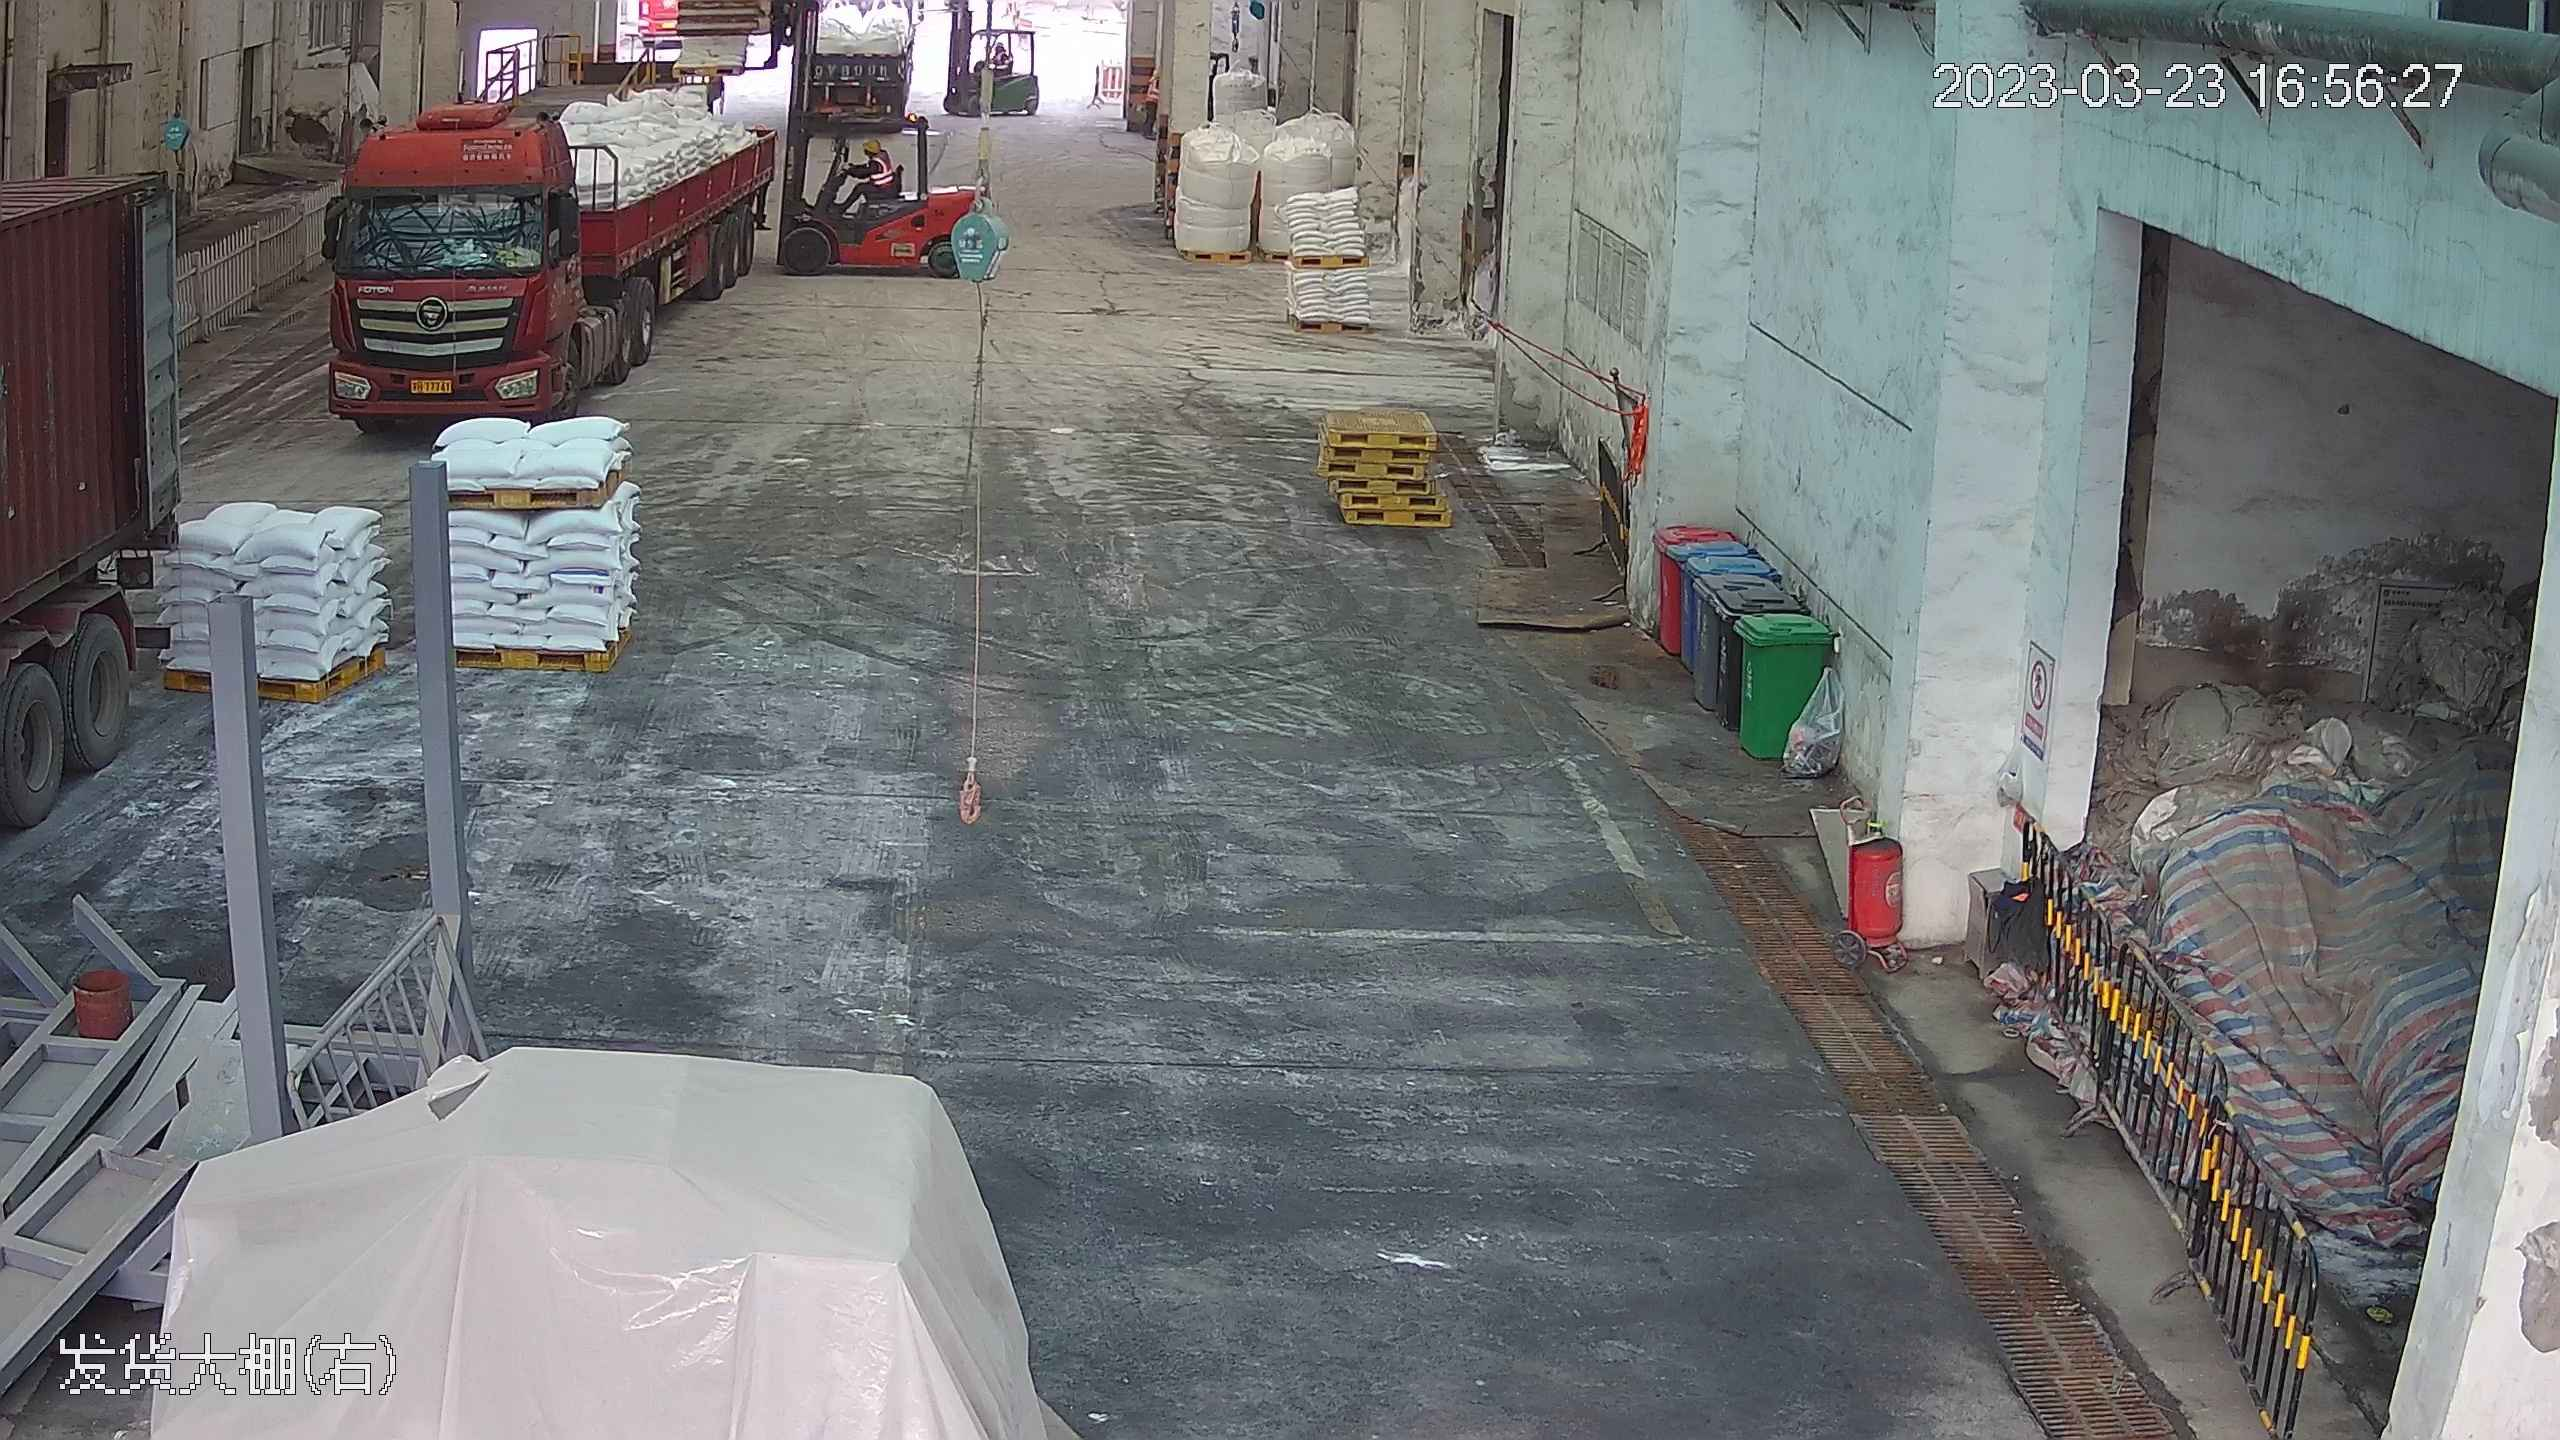head: (854, 134, 892, 176)
helmet: (859, 135, 886, 160)
people: (826, 132, 896, 226), (840, 135, 891, 190)
truck: (0, 50, 200, 1039), (309, 25, 791, 421)
